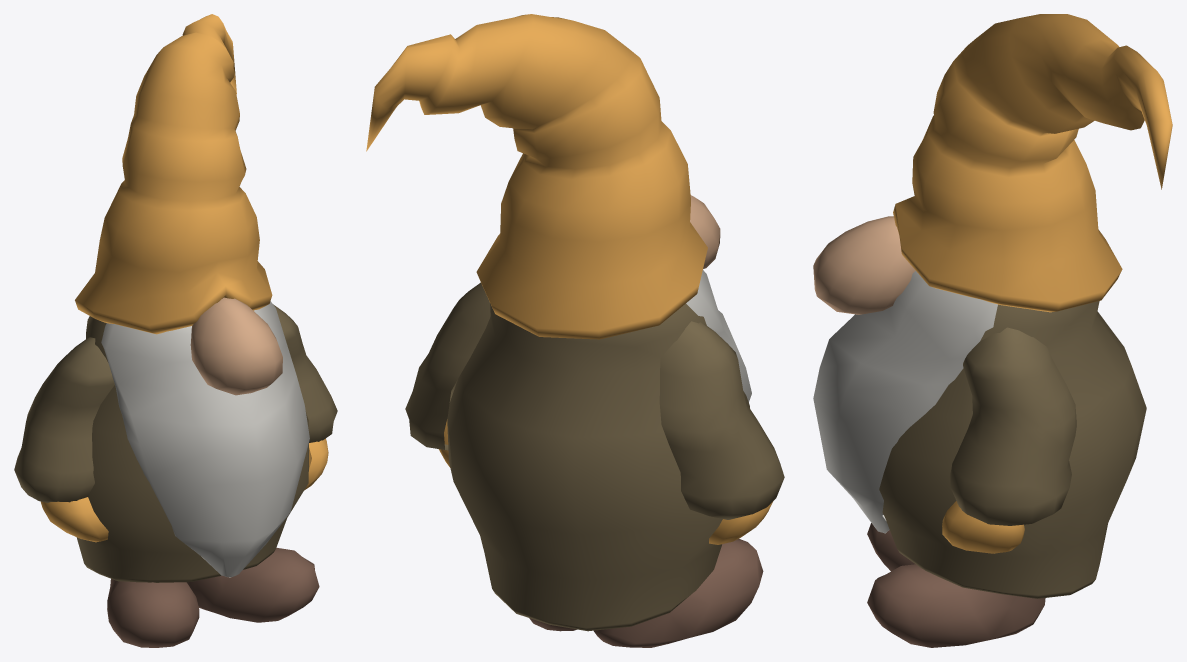
The model's file is P_Gnome_02.fbx.
3 views of the same model, side by side, from view 1: azimuth 30°, elevation 25°; view 2: azimuth 150°, elevation 25°; view 3: azimuth 270°, elevation 25° (orthographic). The views are drawn at different scales.
Parts seen in each view (by area): view 1: lod1; view 2: lod1; view 3: lod1.
Part boxes in pixels (box(x1,y1,x2,y2)): lod1: box(14, 14, 337, 647); lod1: box(366, 14, 784, 647); lod1: box(813, 14, 1172, 647).
Size of what is drawn, in the model's own units: 35.36 by 58.2 by 31.24.
Materials: 1 (1 with a texture image).
